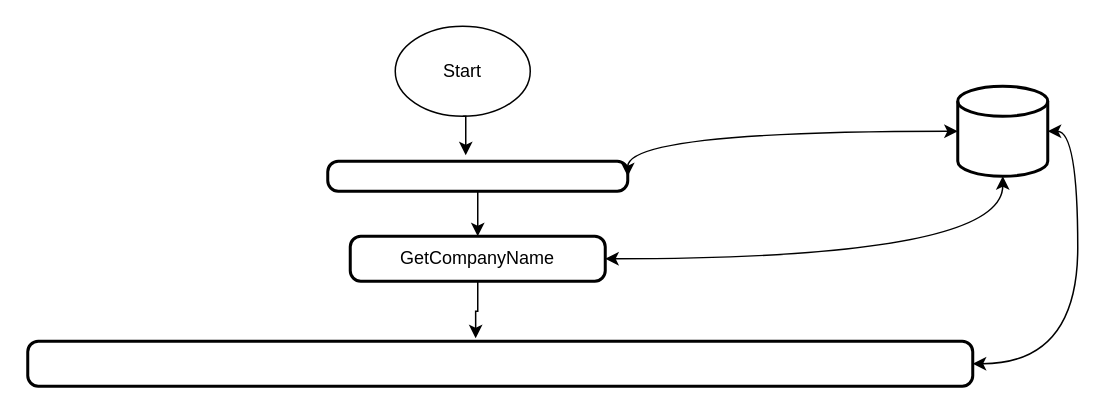
Some shapes in this 1104 by 414 pixel diagram are drawn without their labels. The shapes that lost their labels are listed below. From the top down, each one's centre as x and y in pixels, then its label:
At [477,175]: "Login / Verify".
At [500,363]: "Other APIs".
